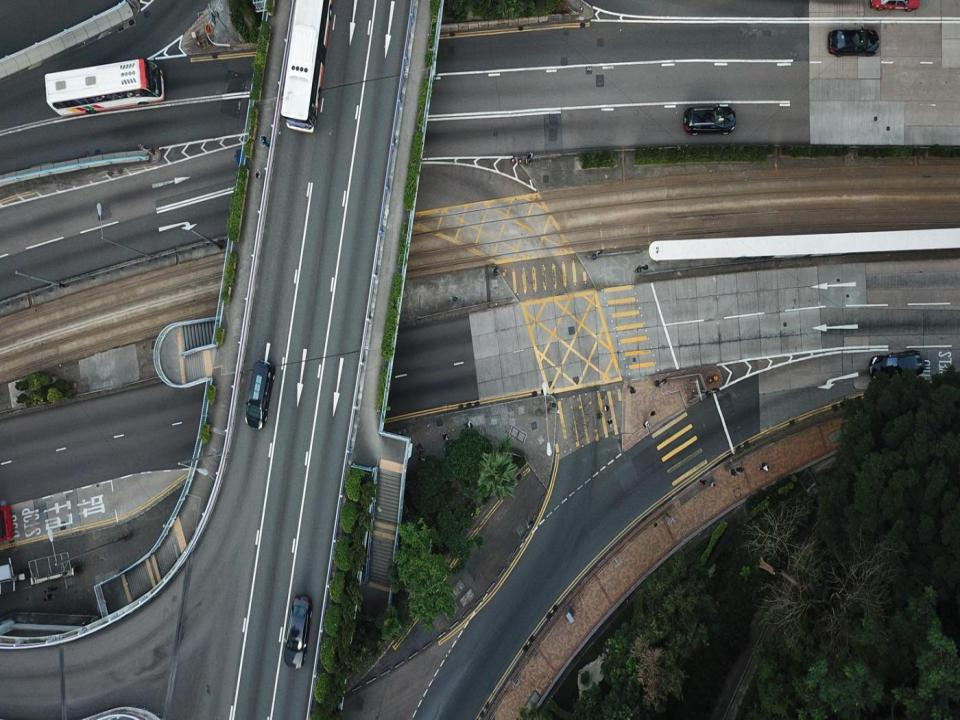bus: (42, 59, 165, 114), (281, 1, 330, 133)
car: (280, 594, 314, 668), (244, 359, 274, 431), (866, 348, 924, 381), (683, 104, 739, 137), (824, 28, 880, 54)
